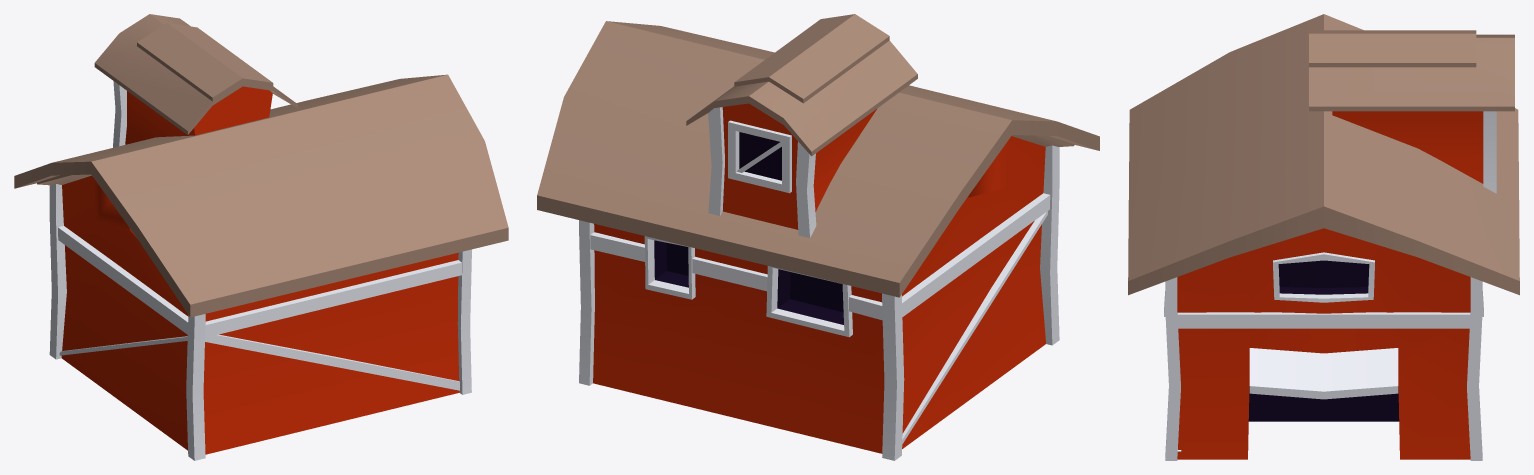
File: barn.fbx
3 renders of one model, left to right at view 1: azimuth 30°, elevation 25°; view 2: azimuth 150°, elevation 25°; view 3: azimuth 270°, elevation 25°, orthographic. The views are drawn at different scales.
Parts seen in each view (by area): view 1: barn; view 2: barn; view 3: barn.
Boxes of the visible parts, x1,y1,x2,y2 form: barn: (14, 14, 508, 460); barn: (537, 14, 1099, 460); barn: (1128, 14, 1519, 460).
Bounding box in the file's own units: 4.61 × 3.79 × 3.97.
